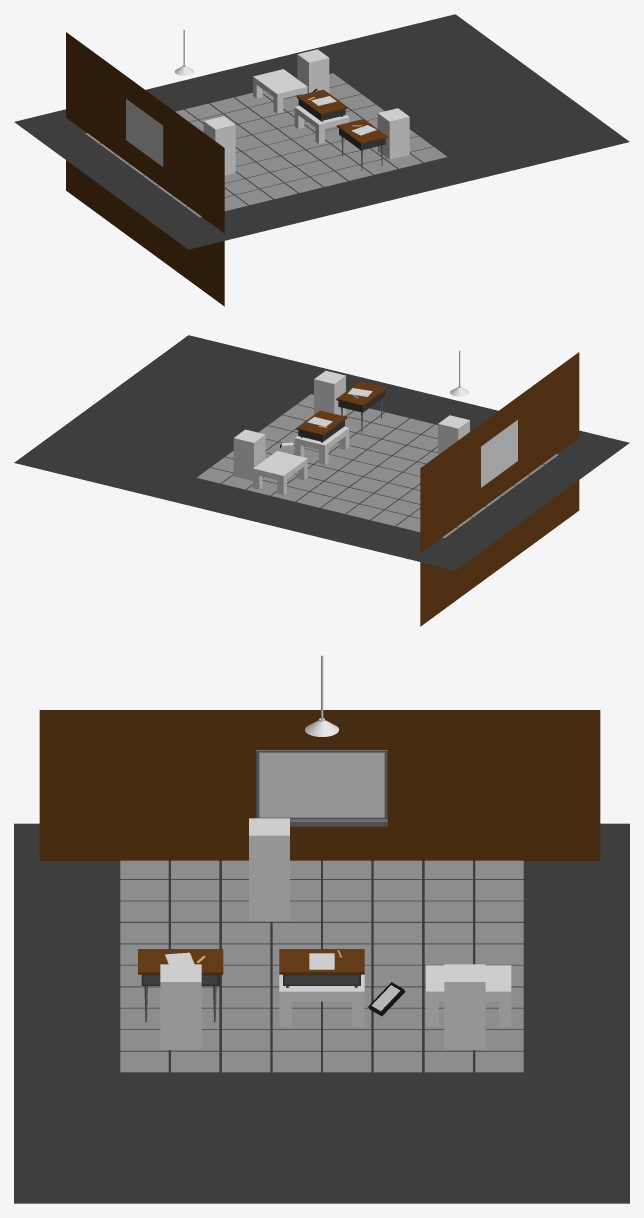
Rendered from Layout.fbx.
3 views of the same model, one above another, from view 1: azimuth 30°, elevation 25°; view 2: azimuth 150°, elevation 25°; view 3: azimuth 270°, elevation 25° (orthographic). The views are drawn at different scales.
Parts seen in each view (by area): view 1: floor, wall, Cube.010, Cube.002, Cube.006, Cube.005, Cube.008, Cube.001, Cube.009, Cube.007, Cube; view 2: floor, wall, Cube.010, Cube.002, Cube.005, Cube.008, Cube.006, Cube, Cube.009, Cube.007, Cube.001; view 3: floor, wall, Cube.010, Cube.002, Cube.001, Cube.006, Cube.008, Cube.007, Cube.005, Cube, Cube.009.
Part boxes in pixels (box(x1,y1,x2,y2)): floor: box(14, 14, 629, 249); wall: box(66, 32, 224, 306); Cube.010: box(85, 73, 446, 217); Cube.002: box(126, 99, 163, 166); Cube.006: box(377, 108, 409, 159); Cube.005: box(253, 69, 307, 113); Cube.008: box(297, 49, 329, 93); Cube.001: box(203, 116, 235, 175); Cube.009: box(336, 119, 387, 150); Cube.007: box(296, 89, 347, 120); Cube: box(294, 105, 349, 143); floor: box(14, 335, 629, 570); wall: box(420, 352, 579, 626); Cube.010: box(197, 394, 558, 538); Cube.002: box(480, 420, 517, 487); Cube.005: box(253, 451, 307, 495); Cube.008: box(233, 429, 265, 480); Cube.006: box(314, 370, 345, 415); Cube: box(294, 426, 349, 464); Cube.009: box(336, 381, 387, 412); Cube.007: box(296, 410, 347, 441); Cube.001: box(438, 415, 469, 454); floor: box(14, 823, 629, 1203); wall: box(39, 710, 600, 860); Cube.010: box(120, 860, 523, 1072); Cube.002: box(256, 750, 387, 826); Cube.001: box(249, 818, 289, 921); Cube.006: box(160, 964, 201, 1049); Cube.008: box(444, 964, 485, 1049); Cube.007: box(279, 949, 364, 985); Cube.005: box(426, 965, 511, 1026); Cube: box(279, 974, 364, 1026); Cube.009: box(138, 949, 223, 985).
Bounding box in the file's own units: 5244 × 2369 × 3592.
